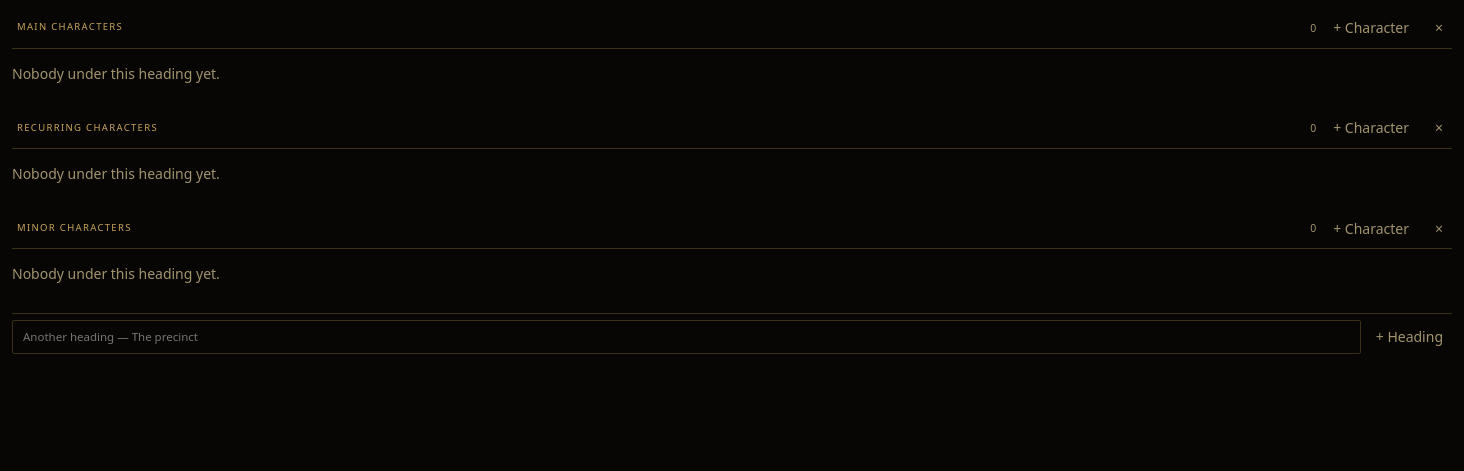
Test case: the cast under its headings › adds a heading of the writer’s own
The width and height of the screenshot is (1464, 471).
Type "The precinct" into the field named "New heading" at x=686, y=337, box [12,320,1361,354]
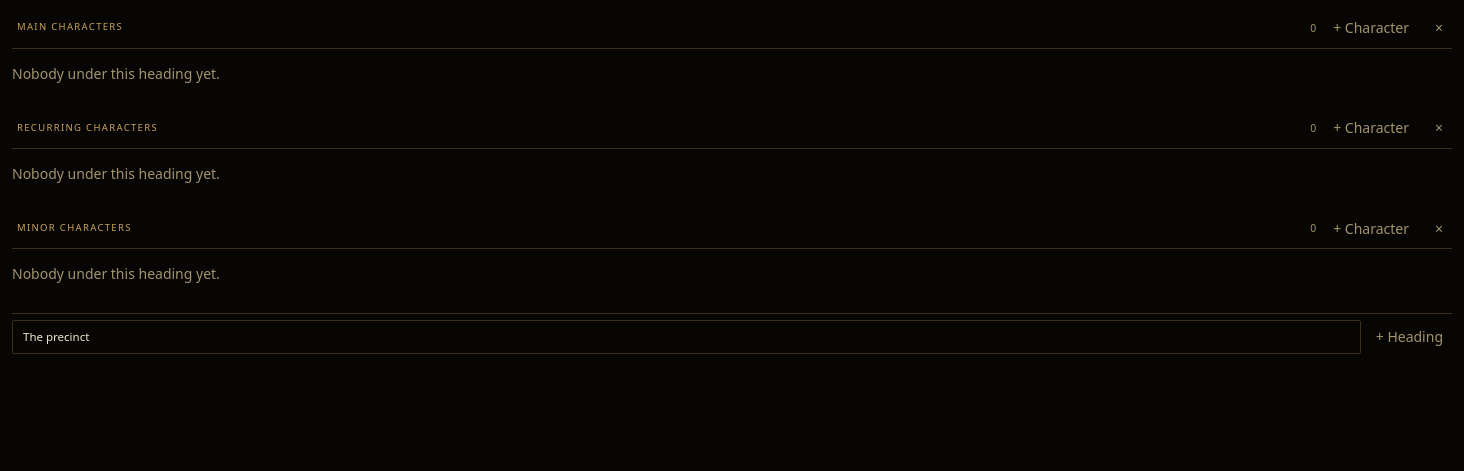
Click the button "+ Heading" at x=1409, y=337, box [1367,321,1452,353]
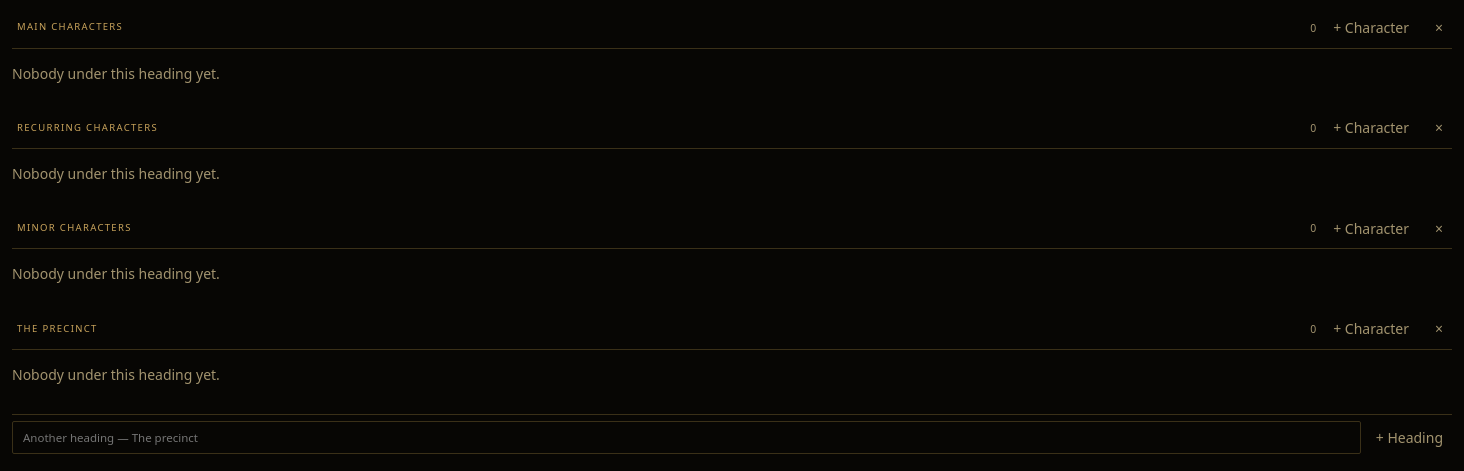
Result: the button "The precinct" is shown at [12,319,1302,339]
